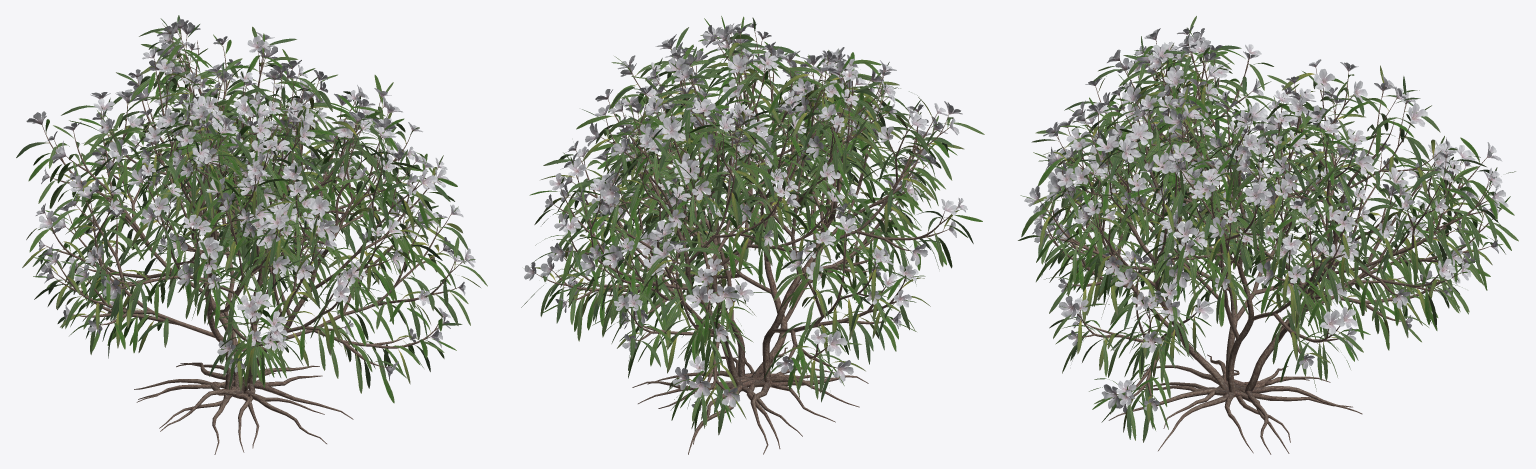
File: FBX_BS09_NeriumOleander_1.fbx
3 renders of one model, left to right at view 1: azimuth 30°, elevation 25°; view 2: azimuth 150°, elevation 25°; view 3: azimuth 270°, elevation 25°, orthographic. The views are drawn at different scales.
Visible parts, largest first — view 1: Leaf01_1, Flower04_1, Bark01_1; view 2: Leaf01_1, Flower04_1, Bark01_1; view 3: Leaf01_1, Flower04_1, Bark01_1.
Part boxes in pixels (left/top/right/bottom): Leaf01_1: left=16, top=15, right=487, bottom=403; Flower04_1: left=26, top=19, right=475, bottom=380; Bark01_1: left=42, top=29, right=464, bottom=454; Leaf01_1: left=521, top=16, right=984, bottom=435; Flower04_1: left=524, top=23, right=967, bottom=410; Bark01_1: left=536, top=32, right=957, bottom=454; Leaf01_1: left=1018, top=16, right=1518, bottom=442; Flower04_1: left=1024, top=26, right=1508, bottom=412; Bark01_1: left=1038, top=35, right=1501, bottom=454.
Bounding box in the file's own units: 181 × 159 × 206.
